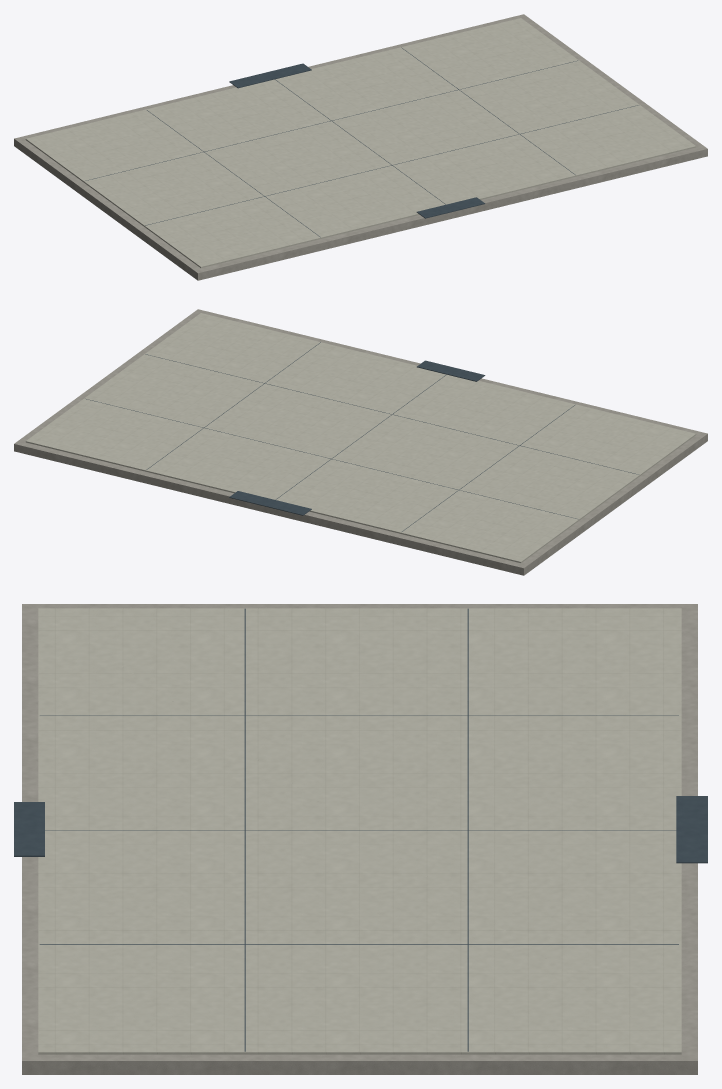
The model's file is PZ_GCR_01_Hall_Floor_16x10m.glb.
3 renders of one model, top to bottom at view 1: azimuth 30°, elevation 25°; view 2: azimuth 150°, elevation 25°; view 3: azimuth 270°, elevation 25°, orthographic. The views are drawn at different scales.
Parts seen in each view (by area): view 1: Hall_Floor_16x10m__Floor_Interior_Terrazzo, Hall_Floor_16x10m__Floor_Concrete_Base, Hall_Floor_16x10m__Floor_Expansion_Joint_Y, Hall_Floor_16x10m__Rear_Door_Threshold, Hall_Floor_16x10m__Front_Door_Threshold, Hall_Floor_16x10m__Floor_Expansion_Joint_X; view 2: Hall_Floor_16x10m__Floor_Interior_Terrazzo, Hall_Floor_16x10m__Floor_Concrete_Base, Hall_Floor_16x10m__Floor_Expansion_Joint_Y, Hall_Floor_16x10m__Rear_Door_Threshold, Hall_Floor_16x10m__Front_Door_Threshold, Hall_Floor_16x10m__Floor_Expansion_Joint_X; view 3: Hall_Floor_16x10m__Floor_Interior_Terrazzo, Hall_Floor_16x10m__Floor_Concrete_Base, Hall_Floor_16x10m__Rear_Door_Threshold, Hall_Floor_16x10m__Floor_Expansion_Joint_X, Hall_Floor_16x10m__Floor_Expansion_Joint_Y, Hall_Floor_16x10m__Front_Door_Threshold.
Part boxes in pixels (left/top/right/bottom): Hall_Floor_16x10m__Floor_Interior_Terrazzo: left=25, top=18, right=696, bottom=267; Hall_Floor_16x10m__Floor_Concrete_Base: left=14, top=14, right=707, bottom=280; Hall_Floor_16x10m__Floor_Expansion_Joint_Y: left=85, top=60, right=638, bottom=225; Hall_Floor_16x10m__Rear_Door_Threshold: left=229, top=63, right=311, bottom=88; Hall_Floor_16x10m__Front_Door_Threshold: left=416, top=197, right=485, bottom=218; Hall_Floor_16x10m__Floor_Expansion_Joint_X: left=147, top=47, right=575, bottom=237; Hall_Floor_16x10m__Floor_Interior_Terrazzo: left=25, top=313, right=696, bottom=562; Hall_Floor_16x10m__Floor_Concrete_Base: left=14, top=309, right=707, bottom=575; Hall_Floor_16x10m__Floor_Expansion_Joint_Y: left=85, top=354, right=638, bottom=519; Hall_Floor_16x10m__Rear_Door_Threshold: left=229, top=491, right=311, bottom=515; Hall_Floor_16x10m__Front_Door_Threshold: left=417, top=360, right=485, bottom=381; Hall_Floor_16x10m__Floor_Expansion_Joint_X: left=146, top=342, right=574, bottom=531; Hall_Floor_16x10m__Floor_Interior_Terrazzo: left=38, top=608, right=681, bottom=1054; Hall_Floor_16x10m__Floor_Concrete_Base: left=22, top=604, right=697, bottom=1074; Hall_Floor_16x10m__Rear_Door_Threshold: left=676, top=796, right=707, bottom=863; Hall_Floor_16x10m__Floor_Expansion_Joint_X: left=39, top=715, right=678, bottom=944; Hall_Floor_16x10m__Floor_Expansion_Joint_Y: left=244, top=608, right=468, bottom=1051; Hall_Floor_16x10m__Front_Door_Threshold: left=14, top=802, right=44, bottom=856.
Size of the model in its own units: 16 by 0.285 by 10.27.
3 materials, 3 textured.
